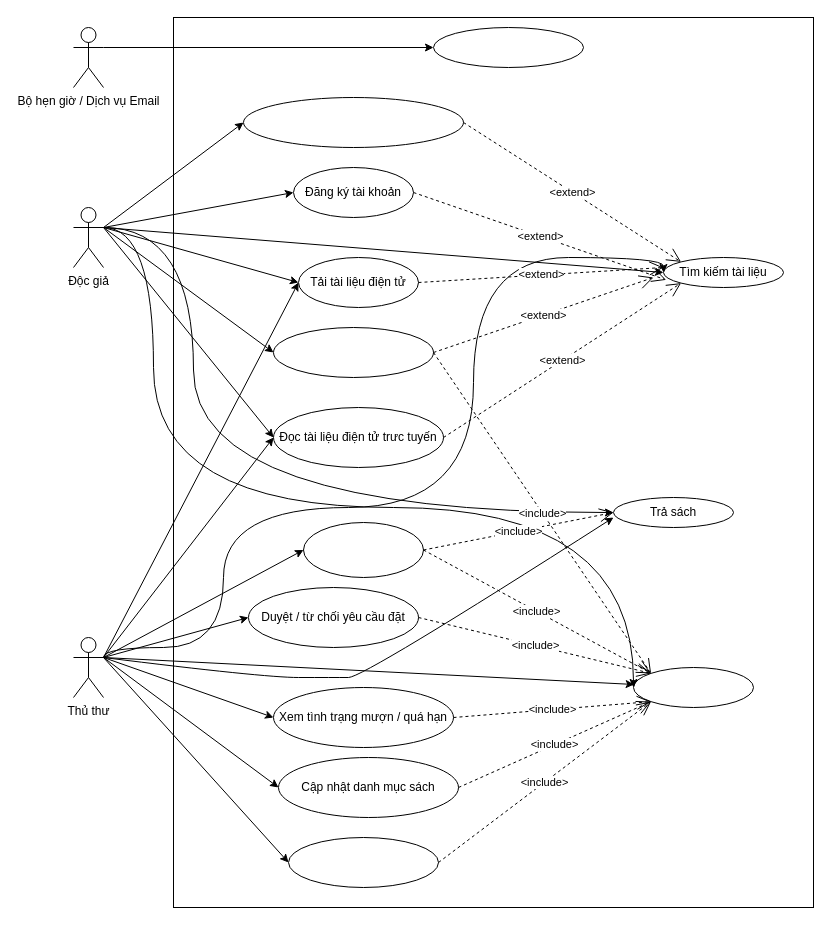
Image size: 831x925. Some labels were removed from this diagram. Here are the shapes that lost their labels. From the top down, the box of each, then its label:
(432, 26, 584, 68): Gửi email nhắc hạn trả
(242, 96, 464, 148): Xem tình trạng & đăng ký mượn sách in
(272, 326, 434, 378): Đặt mua tài liệu điện tử
(302, 522, 424, 578): Quản lý mượn sách
(632, 666, 754, 708): Đăng nhập
(288, 836, 438, 888): Quản lí trả sách
